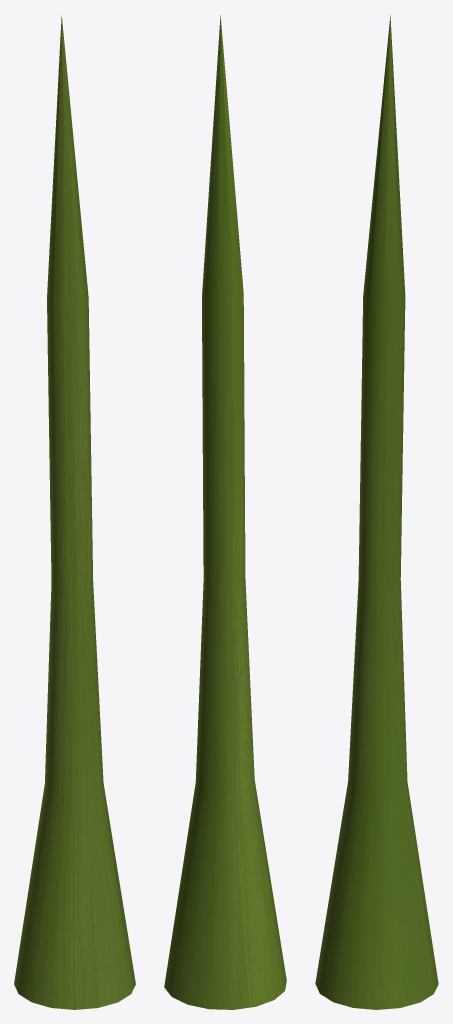
The model's file is fern 2 stem.fbx.
3 views of the same model, side by side, from view 1: azimuth 90°, elevation 25°; view 2: azimuth 210°, elevation 25°; view 3: azimuth 270°, elevation 25° (orthographic).
Visible parts, largest first — view 1: plant01_0; view 2: plant01_0; view 3: plant01_0.
Part boxes in pixels (x1,y1,x2,y2): plant01_0: (14,16,135,1009); plant01_0: (164,15,286,1009); plant01_0: (315,15,438,1009).
Size of the model in its own units: 0.0677 by 0.5912 by 0.0677.
1 material, 1 textured.
